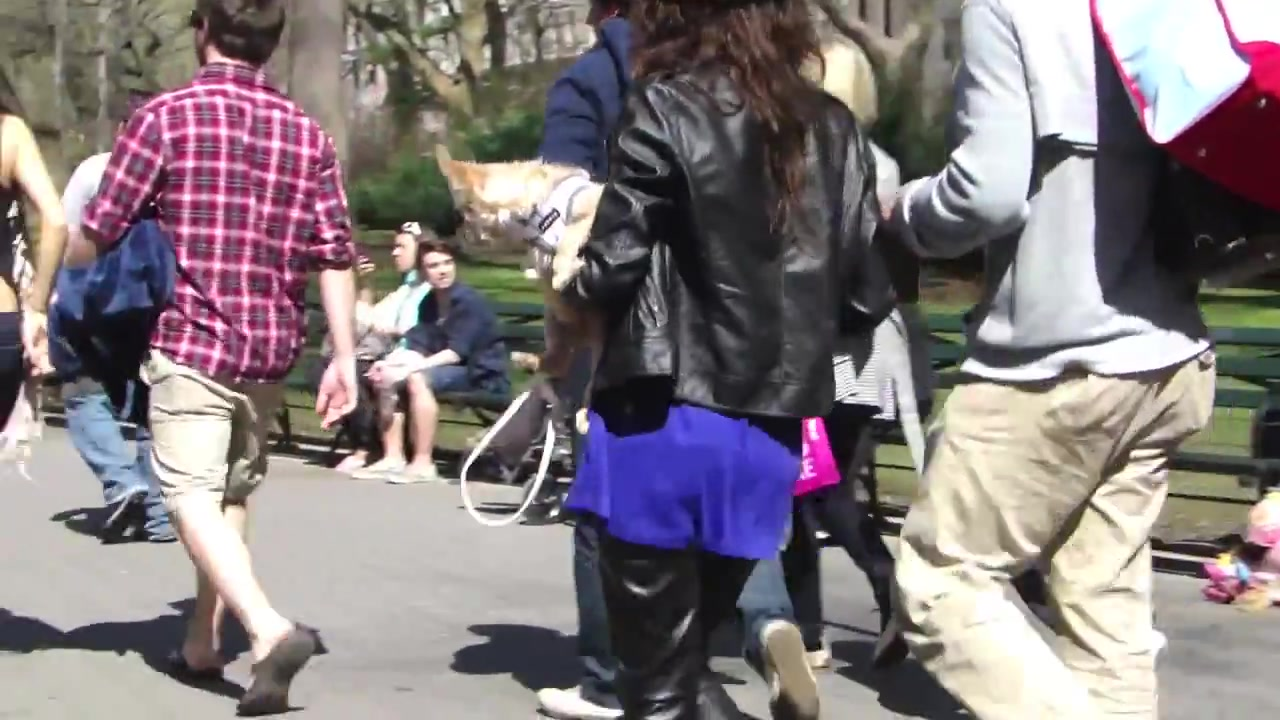dog: (435, 147, 613, 384)
